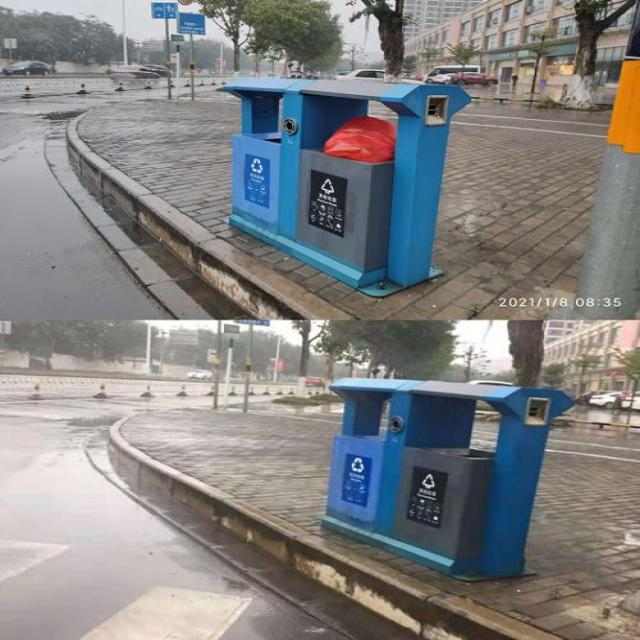garbage_bin: (320, 376, 575, 582)
overflow: (219, 76, 471, 295)
